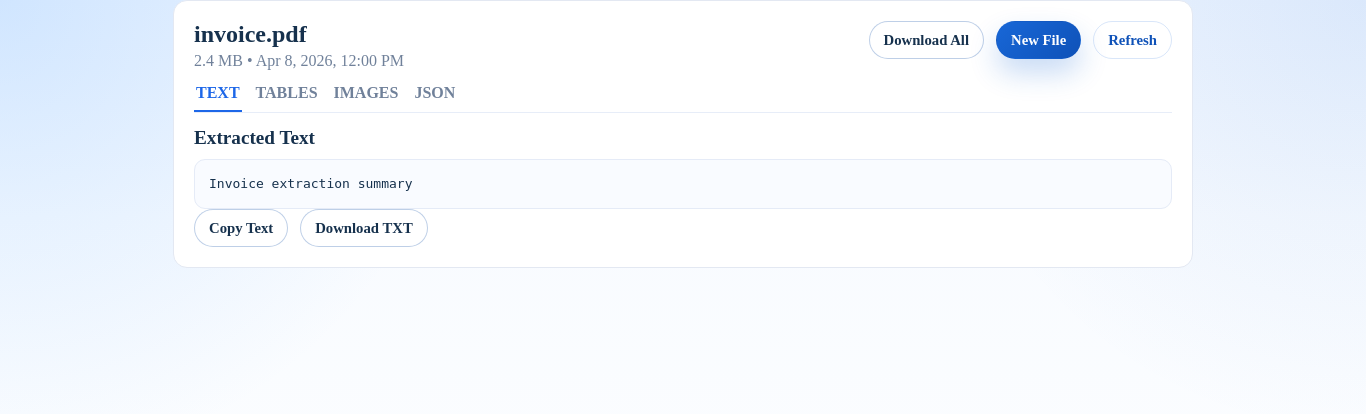
JobDetailPage › supports download and copy actions for JSON output
Step 1. Click the tab "JSON" → [435, 98], box [412,84,457,112]
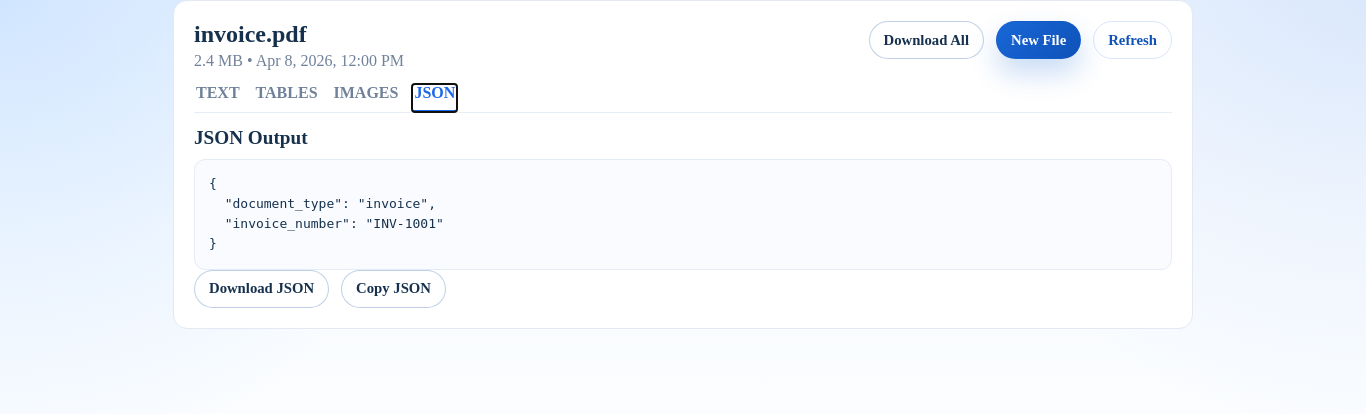
Step 2. Click the button "Download JSON" → [262, 289], box [194,270,329,308]
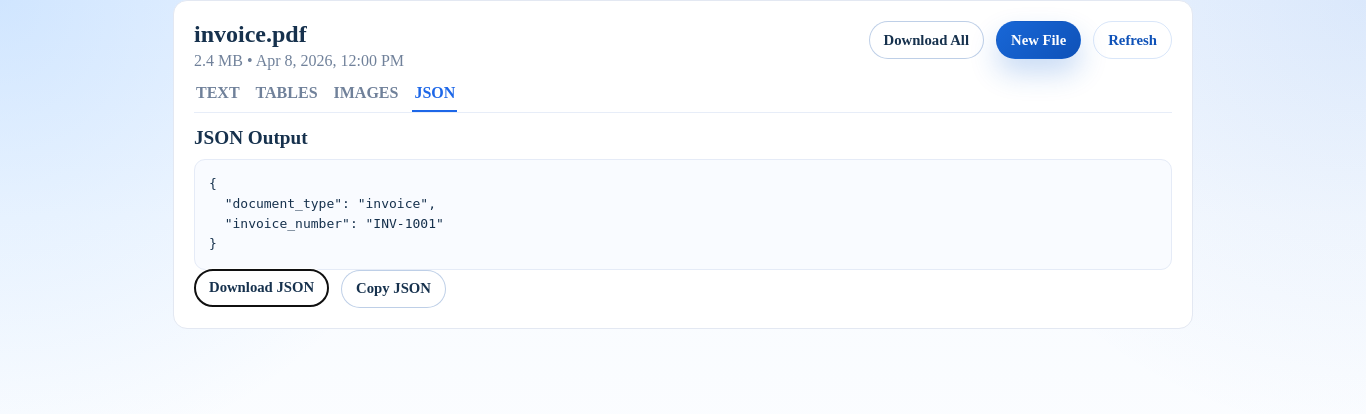
Step 3. Click the button "Copy JSON" → [394, 289], box [341,270,446,308]
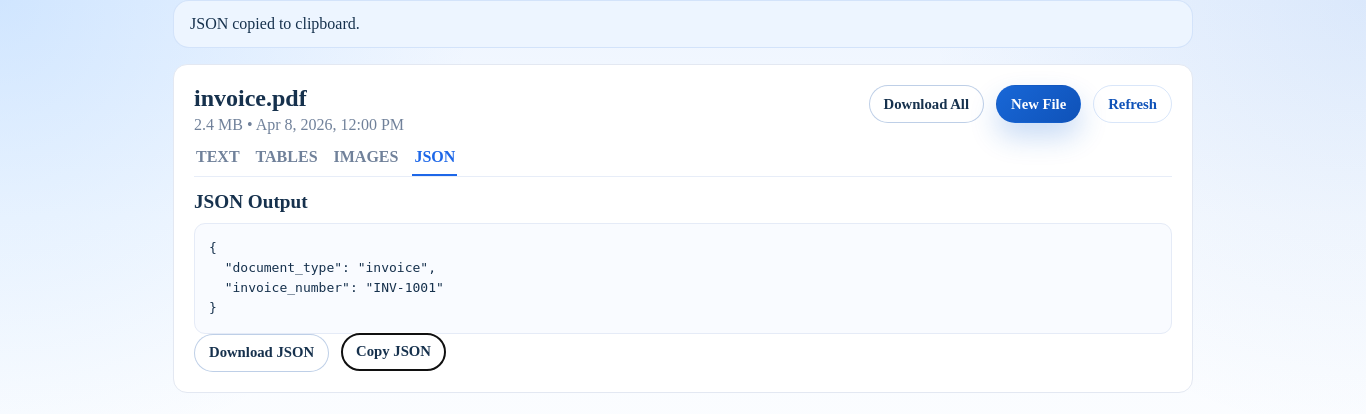
Expected: the text "JSON copied to clipboard." is shown, [173,0,1193,48]
